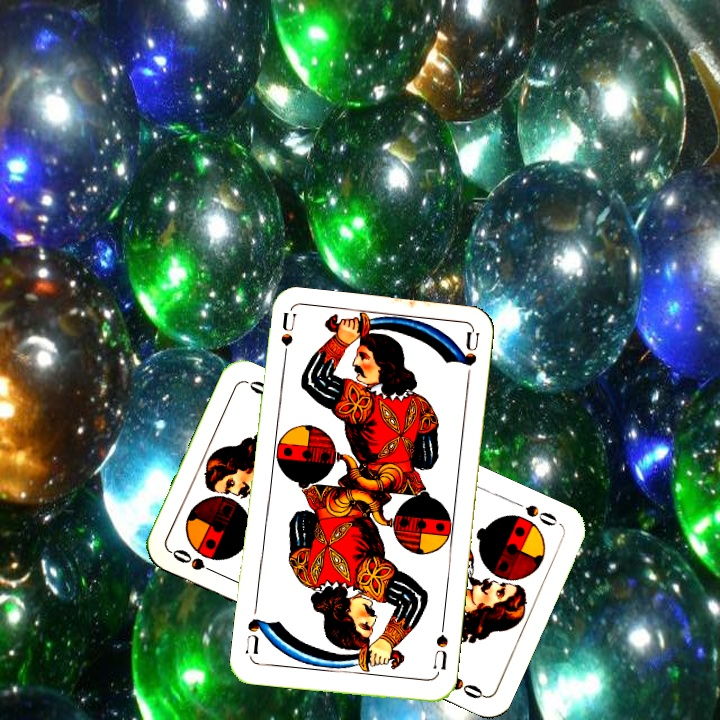SO: (167, 545, 223, 578), (508, 496, 564, 529)
SU: (277, 310, 299, 370), (429, 619, 451, 678)
